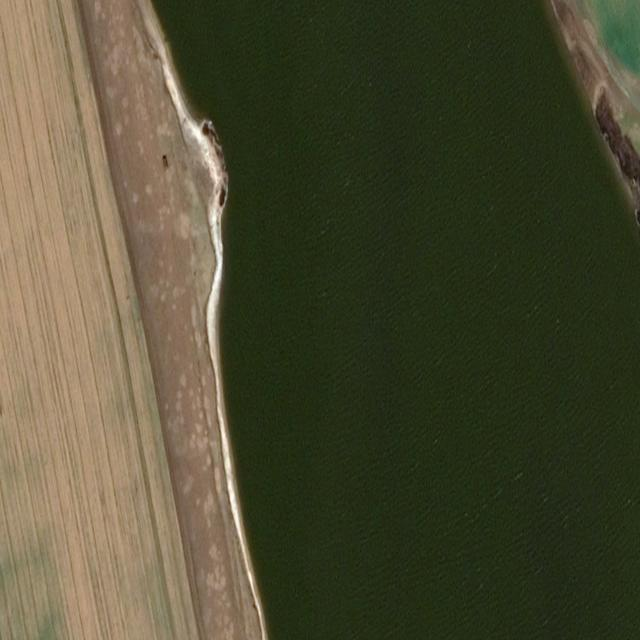bare-soil: (78, 0, 265, 639), (549, 0, 640, 226)
grass: (589, 0, 640, 78)
water: (154, 0, 640, 639)
